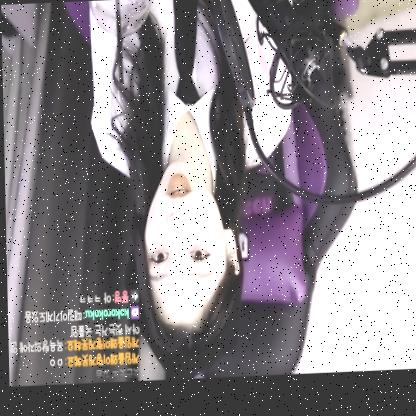streamer: (86, 0, 298, 383)
